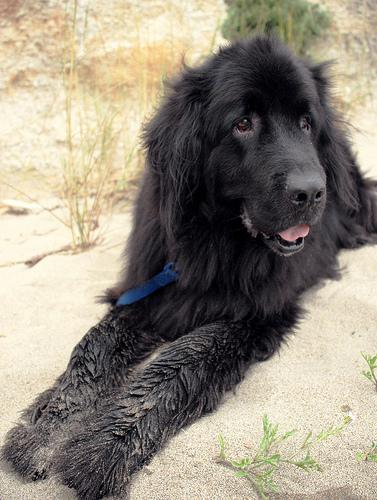dog-newfoundland: (146, 36, 357, 254)
